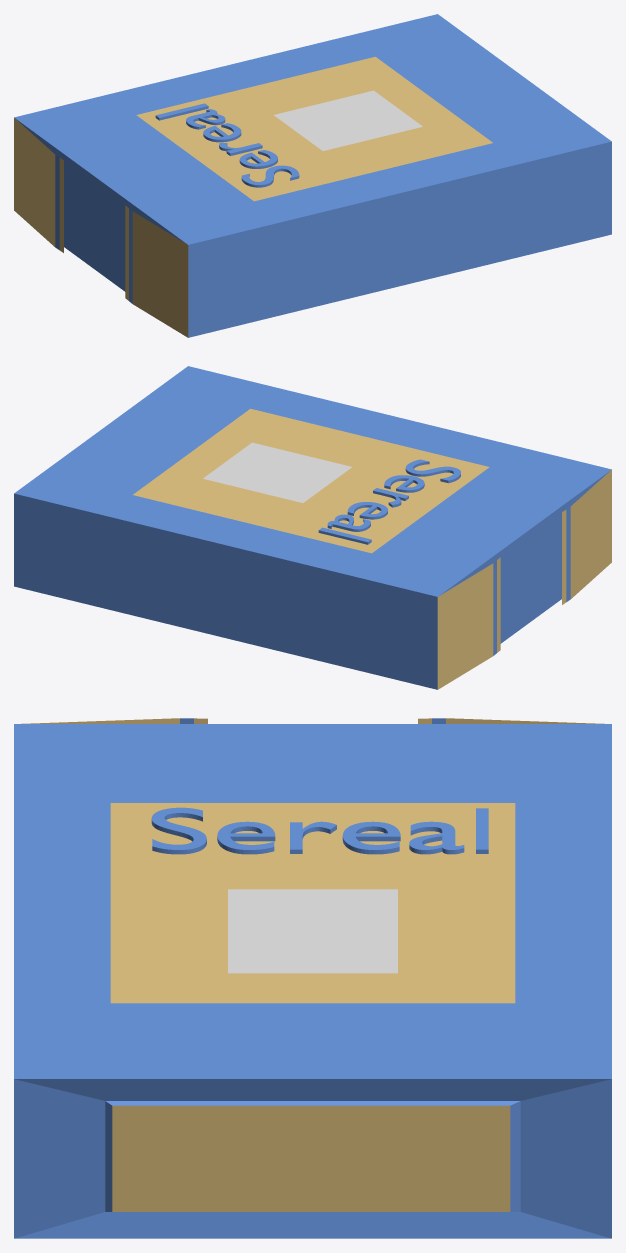
Rendered from Sereal.fbx.
The picture shows the model from 3 angles, top to bottom: view 1: azimuth 30°, elevation 25°; view 2: azimuth 150°, elevation 25°; view 3: azimuth 270°, elevation 25°; orthographic projection. The views are drawn at different scales.
Visible parts, largest first — view 1: SerealBox; view 2: SerealBox; view 3: SerealBox.
Boxes of the visible parts, x1,y1,x2,y2 form: SerealBox: (14,14,611,337); SerealBox: (14,366,611,689); SerealBox: (14,718,611,1238).
Size of the model in its own units: 5.96 by 1.26 by 4.17.
